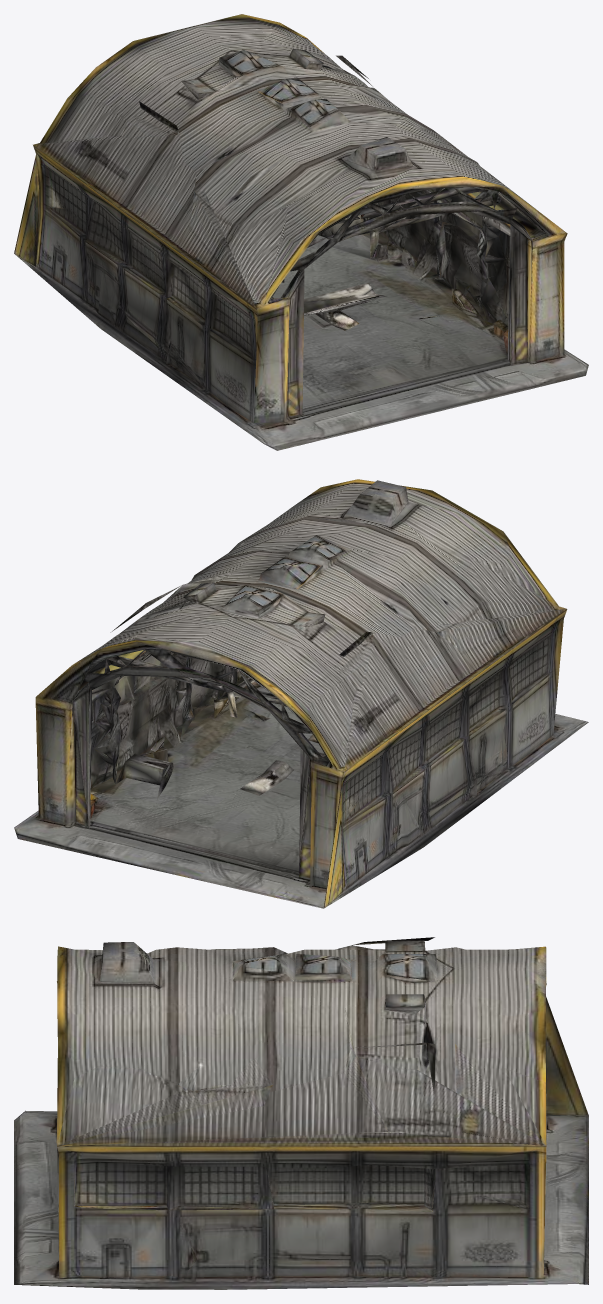
Rendered from hangar.glb.
The picture shows the model from 3 angles, top to bottom: view 1: azimuth 30°, elevation 25°; view 2: azimuth 150°, elevation 25°; view 3: azimuth 270°, elevation 25°; orthographic projection. The views are drawn at different scales.
Parts seen in each view (by area): view 1: Mesh_0; view 2: Mesh_0; view 3: Mesh_0.
Part boxes in pixels (<box>): Mesh_0: <box>14,14,588,450</box>; Mesh_0: <box>14,479,588,908</box>; Mesh_0: <box>14,937,588,1289</box>.
Size of the model in its own units: 1.35 by 0.9218 by 1.9.
1 material, 1 textured.
